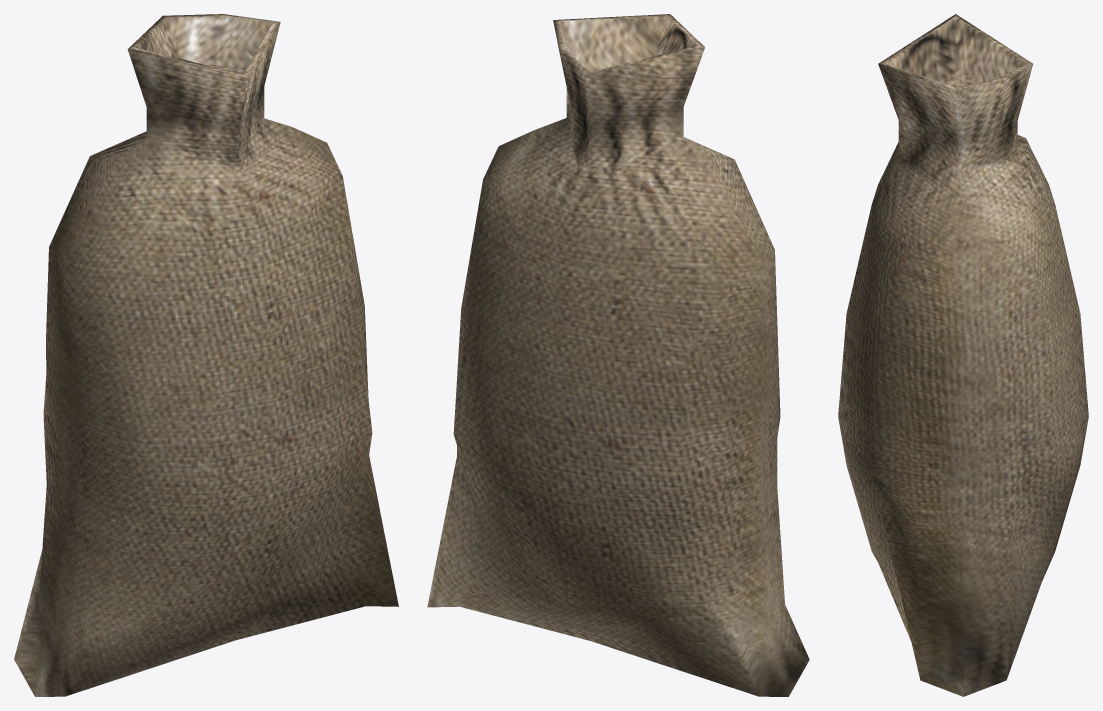
Rendered from sandbag05.FBX.
The picture shows the model from 3 angles, left to right: view 1: azimuth 30°, elevation 25°; view 2: azimuth 150°, elevation 25°; view 3: azimuth 270°, elevation 25°; orthographic projection. The views are drawn at different scales.
Parts seen in each view (by area): view 1: sandbag05; view 2: sandbag05; view 3: sandbag05.
Boxes of the visible parts, left/top/right/bottom form: sandbag05: left=14, top=14, right=398, bottom=696; sandbag05: left=427, top=14, right=809, bottom=696; sandbag05: left=838, top=14, right=1088, bottom=696.
Size of the model in its own units: 70.47 by 122 by 48.01.
1 material, 1 textured.
